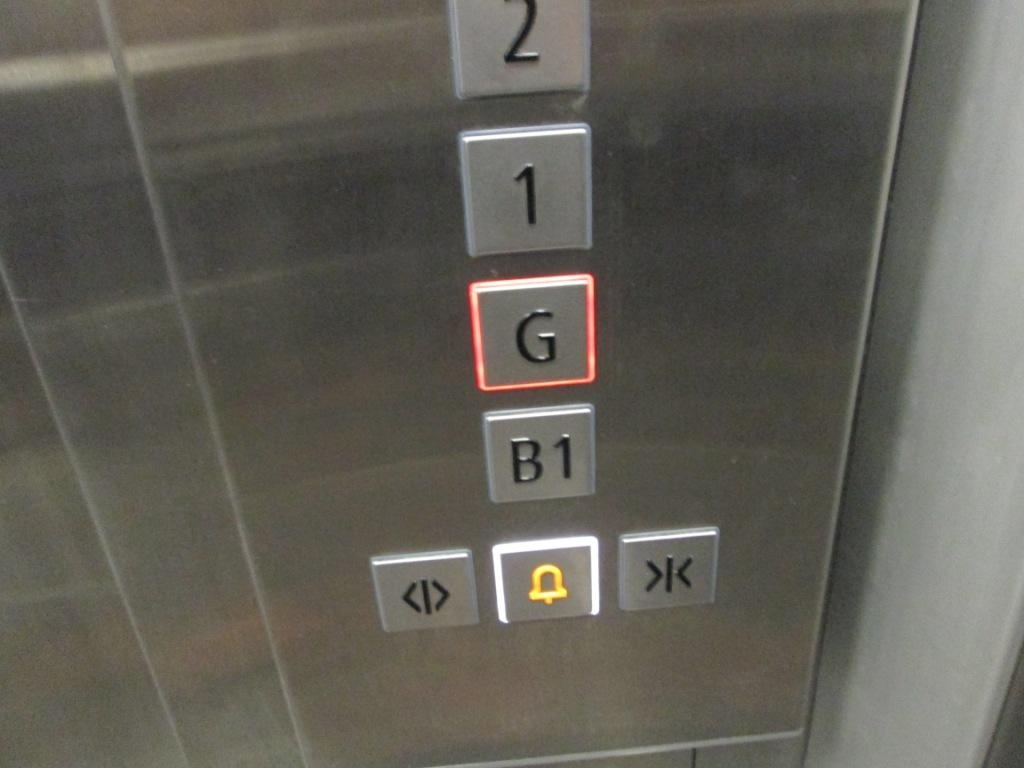1: (452, 118, 597, 261)
B1: (477, 399, 600, 507)
G: (464, 268, 598, 394)
alarm: (488, 532, 604, 628)
close: (612, 520, 723, 617)
open: (365, 543, 485, 638)
